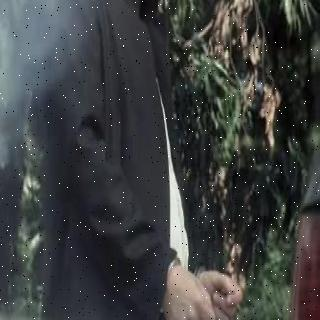smoke: (0, 0, 71, 319)
